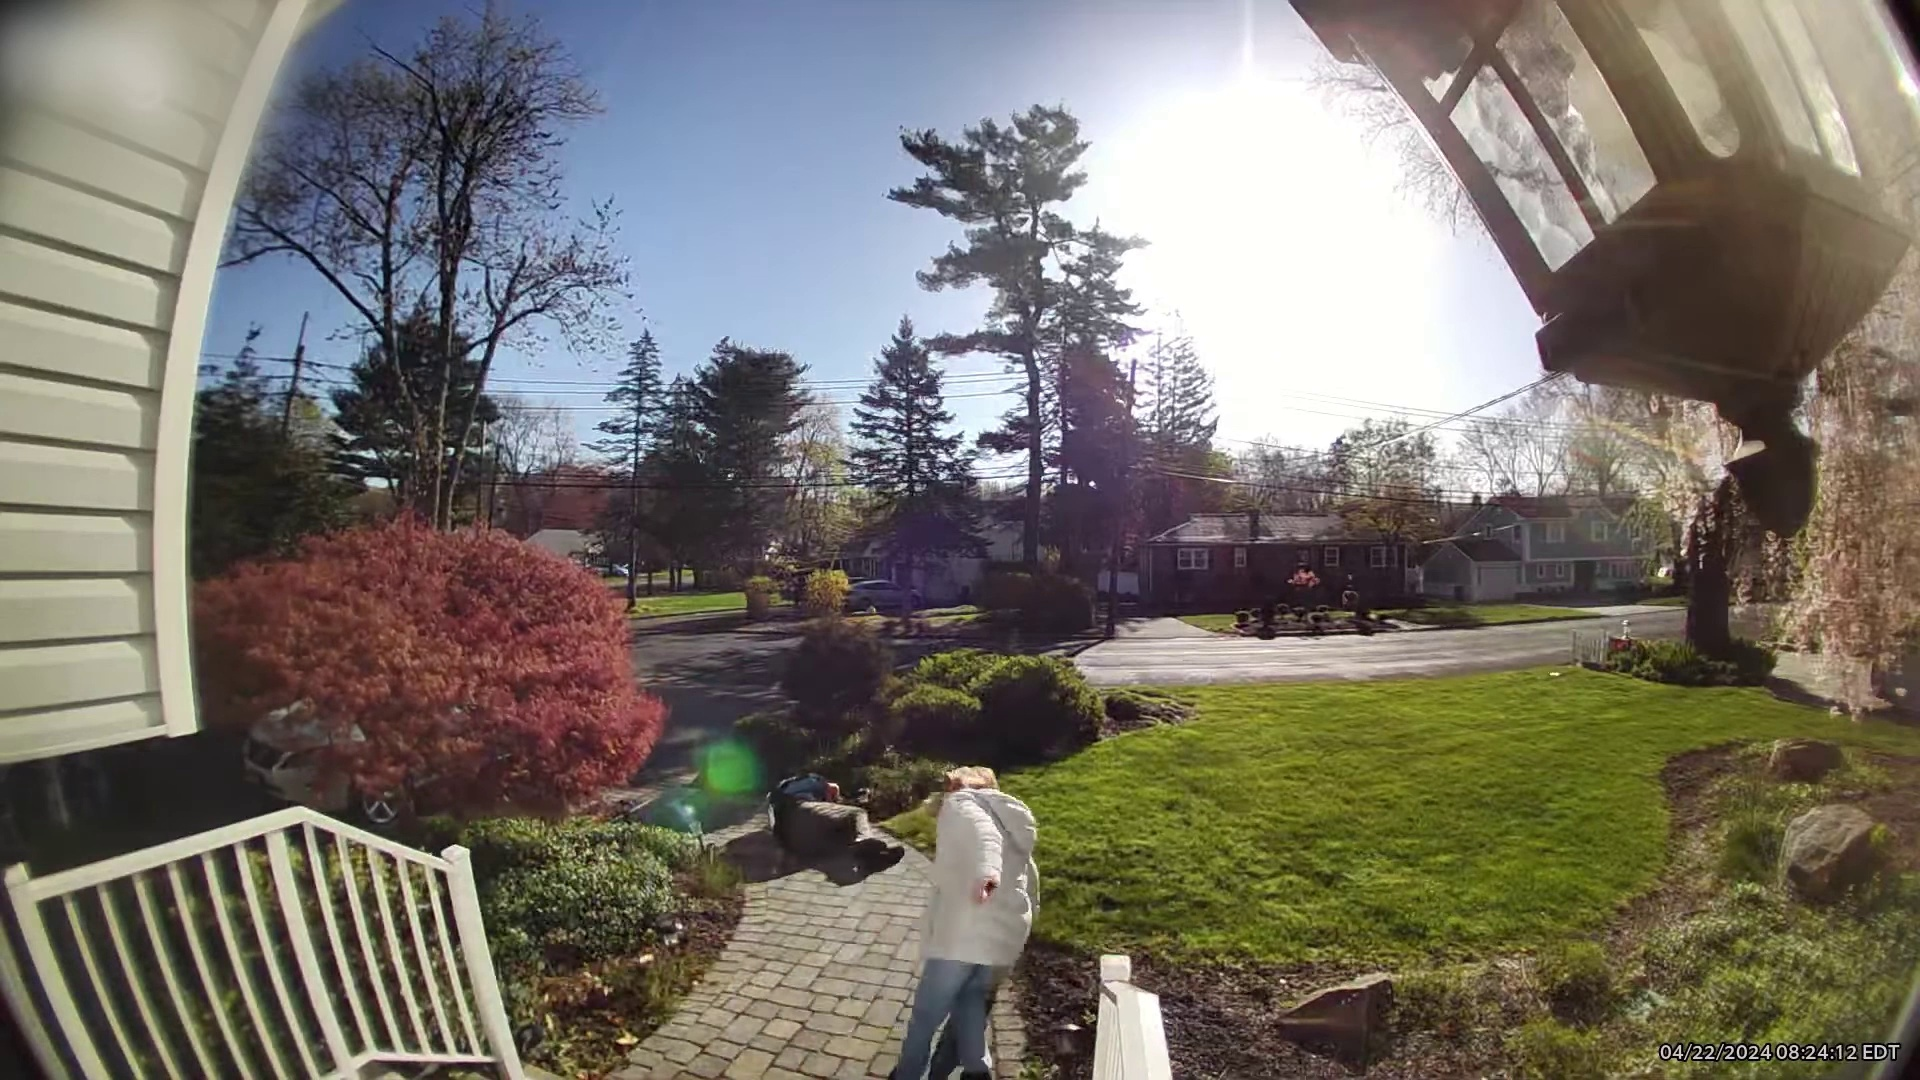fall: (694, 723, 910, 903)
